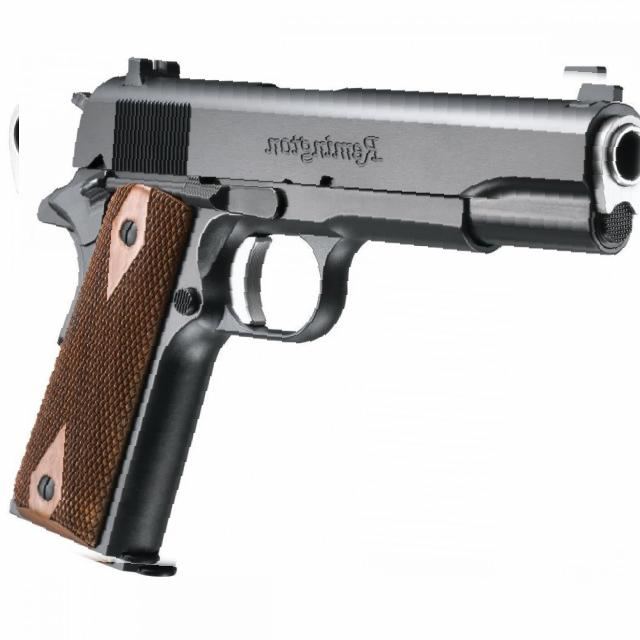gun: (11, 45, 639, 587)
